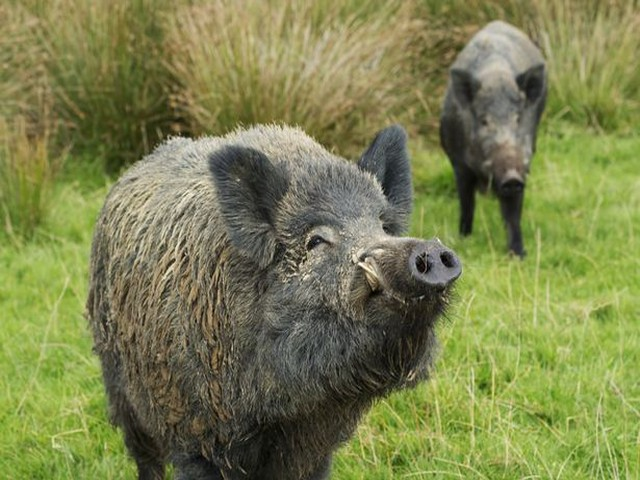Pig: (89, 118, 462, 480), (458, 16, 550, 245)
